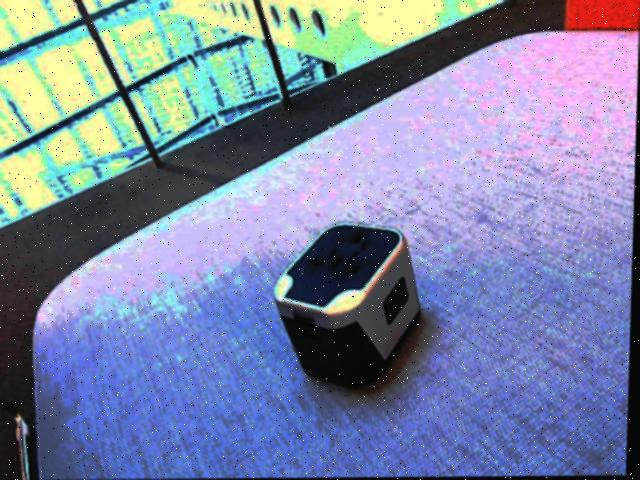adapter: (273, 222, 425, 389)
